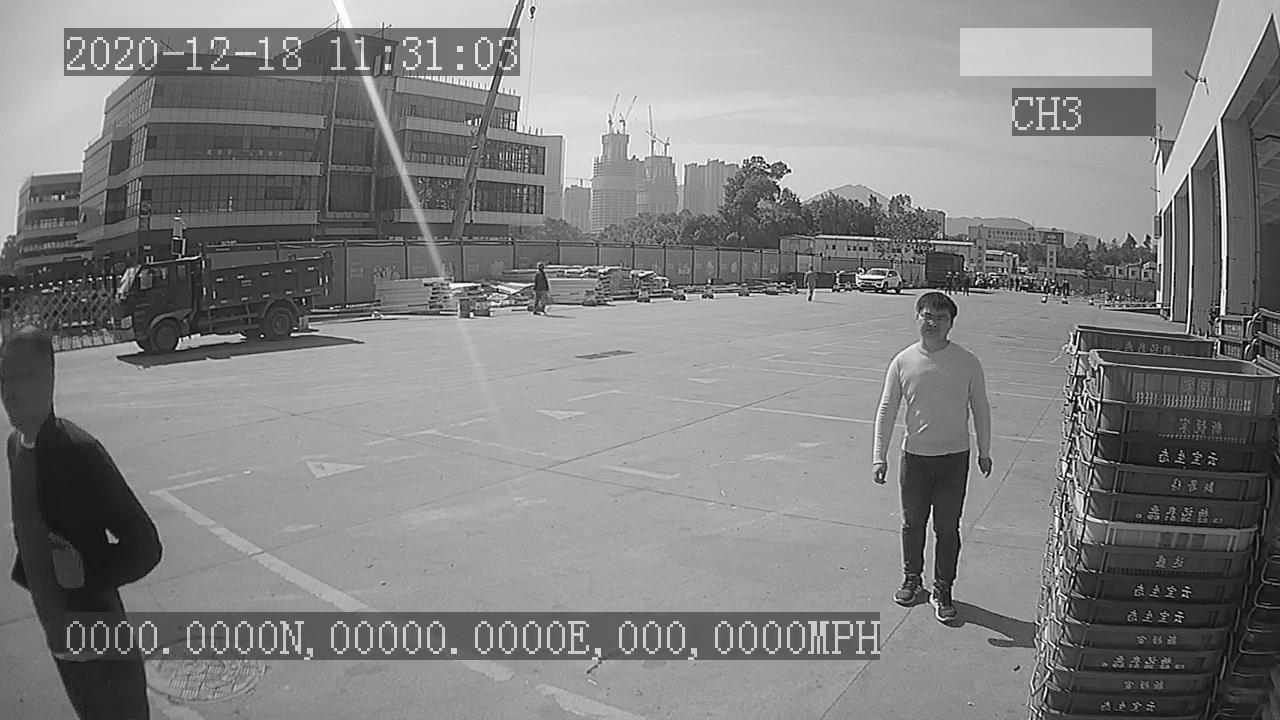person: (869, 286, 991, 616)
